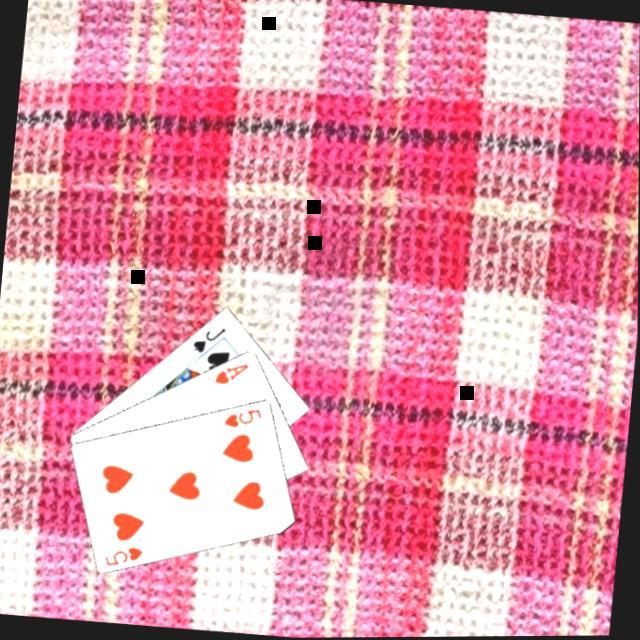5H: (102, 542, 147, 572), (222, 403, 266, 433)
AH: (212, 358, 252, 389)
JS: (189, 322, 230, 359)
